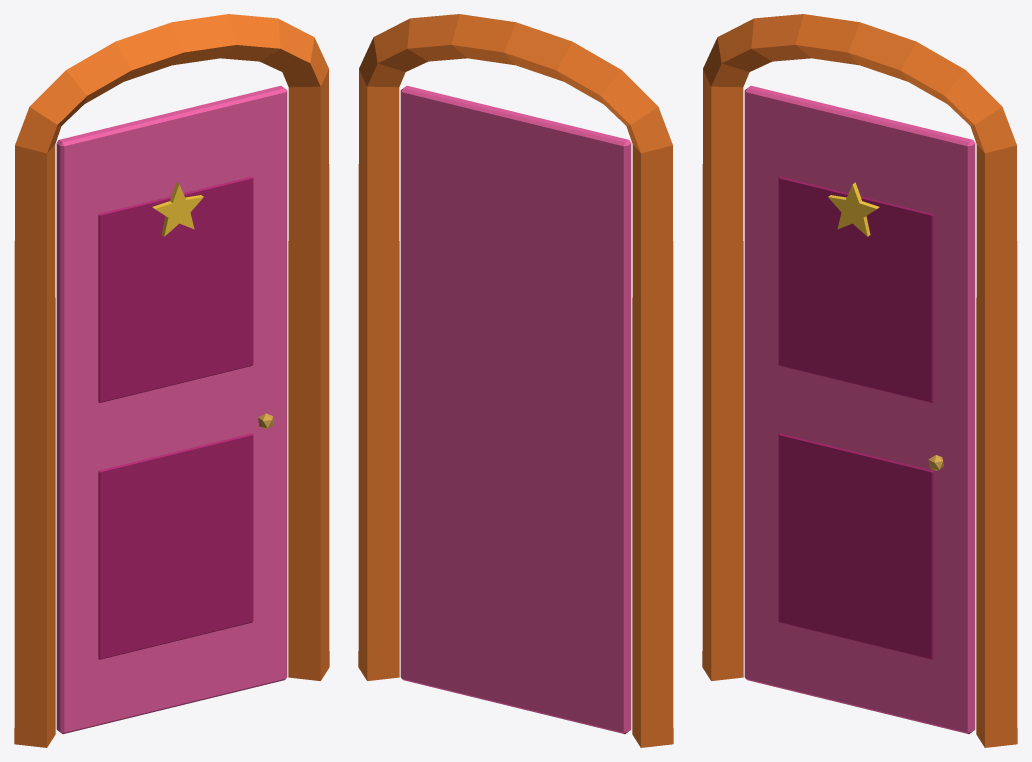
The picture shows the model from 3 angles, left to right: view 1: azimuth 30°, elevation 25°; view 2: azimuth 150°, elevation 25°; view 3: azimuth 330°, elevation 25°; orthographic projection.
Parts seen in each view (by area): view 1: door_panel, door_surround, door_inlay_0, door_inlay_1, door_star; view 2: door_panel, door_surround; view 3: door_panel, door_surround, door_inlay_0, door_inlay_1, door_star.
Boxes of the visible parts, x1,y1,x2,y2 form: door_panel: [56, 85, 287, 734]; door_surround: [14, 14, 329, 747]; door_inlay_0: [98, 433, 253, 659]; door_inlay_1: [98, 176, 253, 402]; door_star: [152, 182, 203, 236]; door_panel: [400, 85, 631, 734]; door_surround: [358, 14, 673, 747]; door_panel: [744, 85, 975, 734]; door_surround: [702, 14, 1017, 747]; door_inlay_0: [778, 433, 933, 659]; door_inlay_1: [778, 176, 933, 402]; door_star: [828, 182, 879, 236].
Size of the model in its own units: 1.22 by 2.53 by 0.1655.
